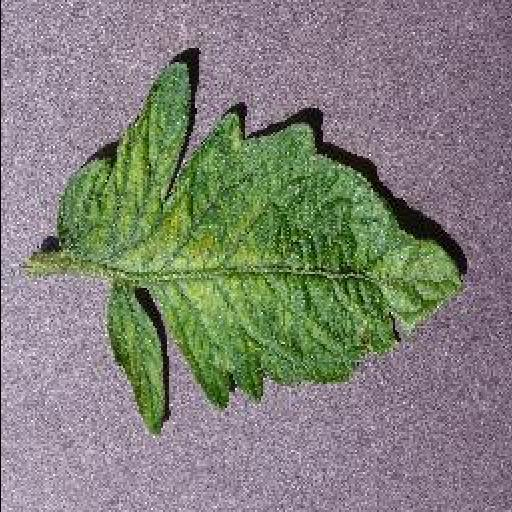disease_tomato: (54, 60, 468, 440)
